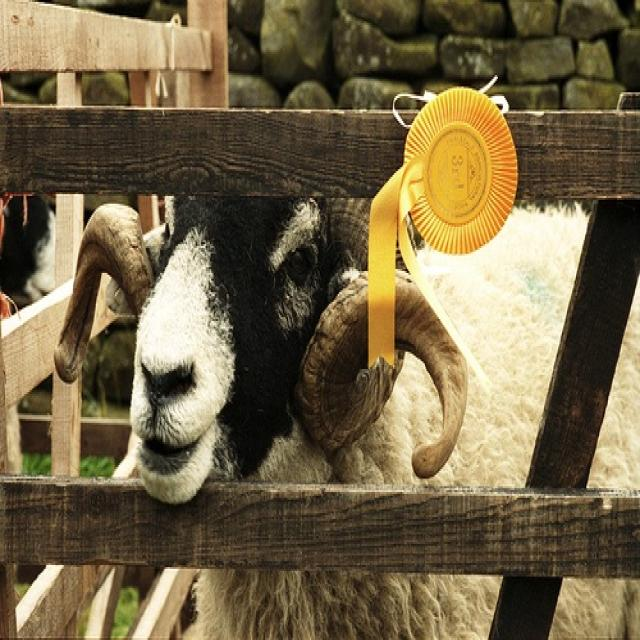sheep: (55, 193, 640, 639)
